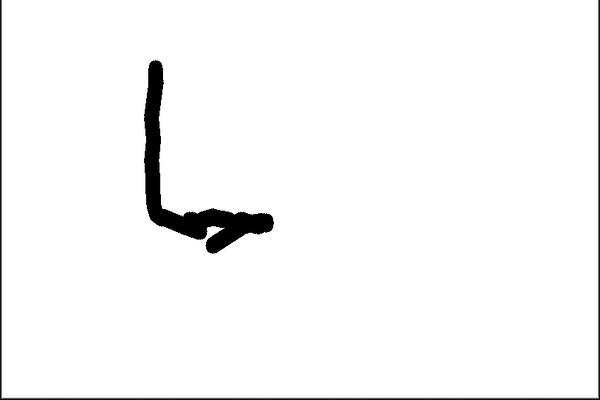L: (137, 55, 281, 258)
